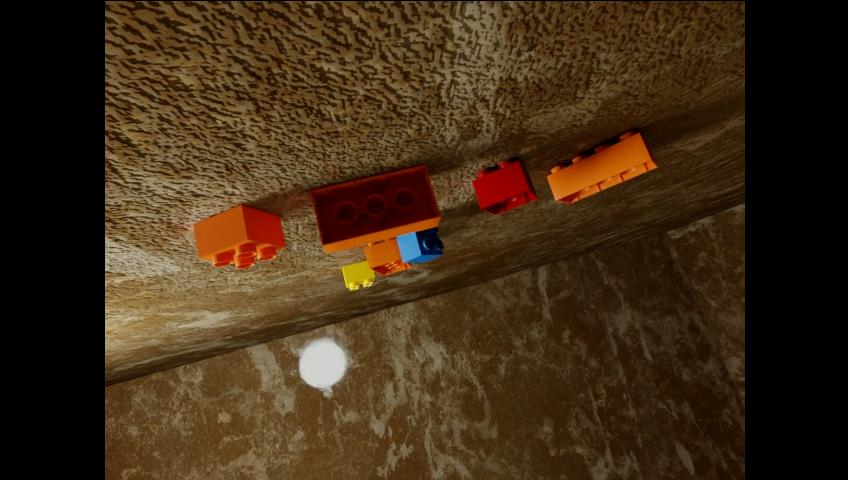2x2_blue: (397, 225, 443, 263)
2x2_orange: (194, 205, 285, 268)
2x2_red: (471, 158, 536, 214)
2x2_yellow: (341, 261, 374, 290)
4x2_orange: (310, 164, 441, 253), (546, 131, 657, 203), (365, 236, 411, 276)
